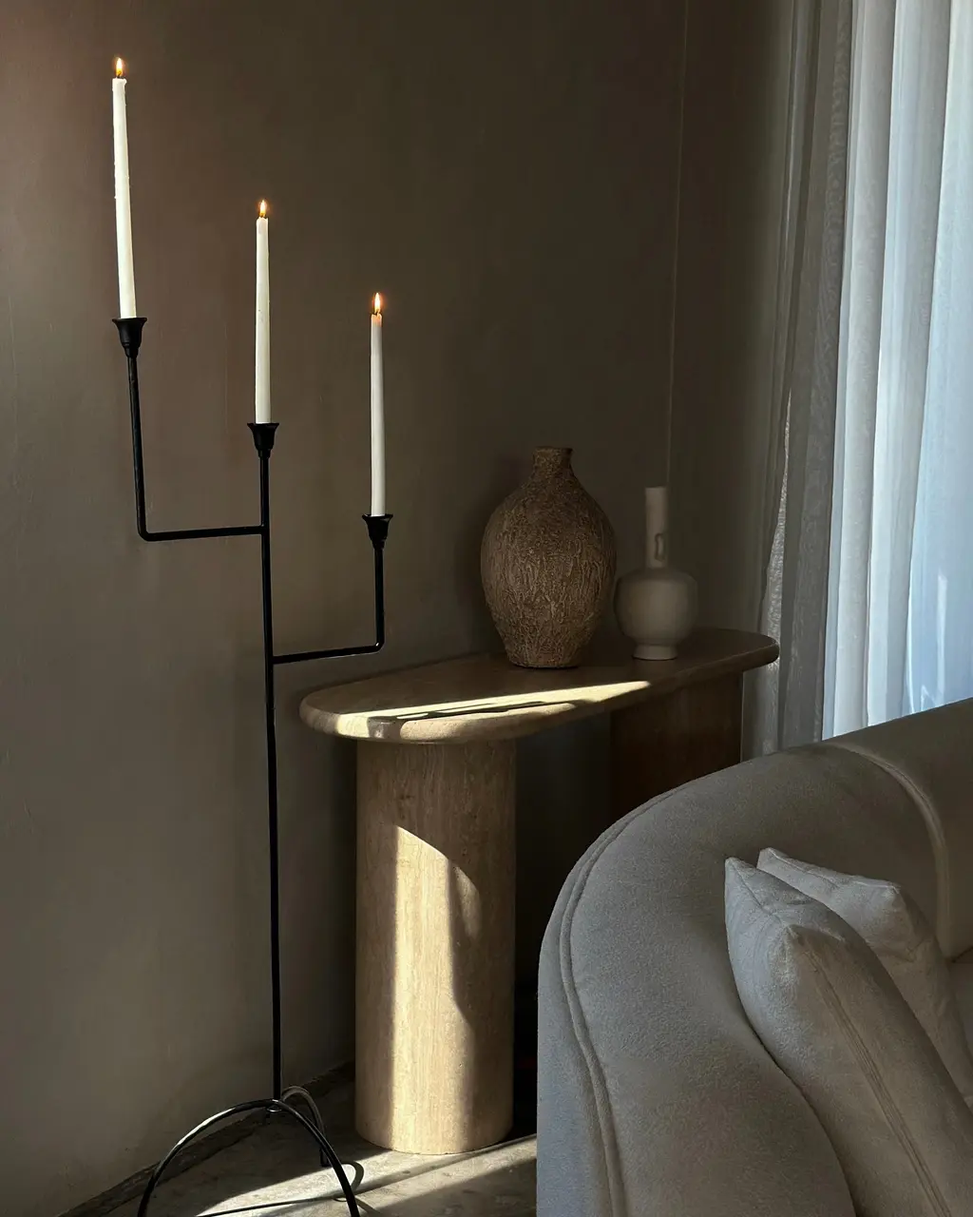Open-Flame-Hazard: (230, 183, 320, 434), (344, 275, 431, 524)
